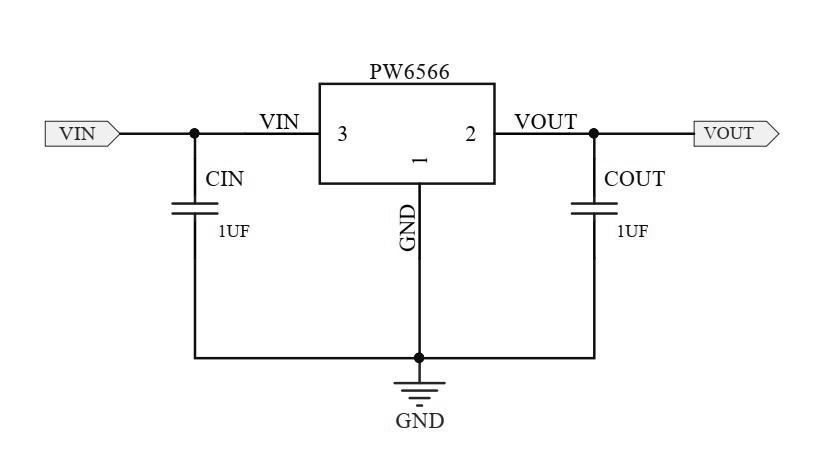cap1: (567, 198, 623, 220), (166, 199, 223, 220)
gnd: (390, 377, 448, 408)
